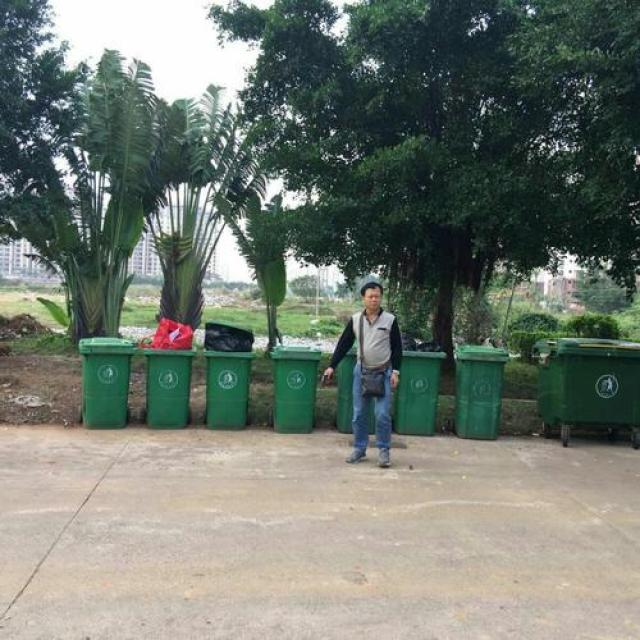garbage_bin: (530, 337, 639, 425), (452, 344, 511, 440), (77, 336, 134, 428), (269, 343, 320, 431), (394, 349, 444, 434)
overflow: (139, 318, 196, 427), (201, 318, 255, 430)
